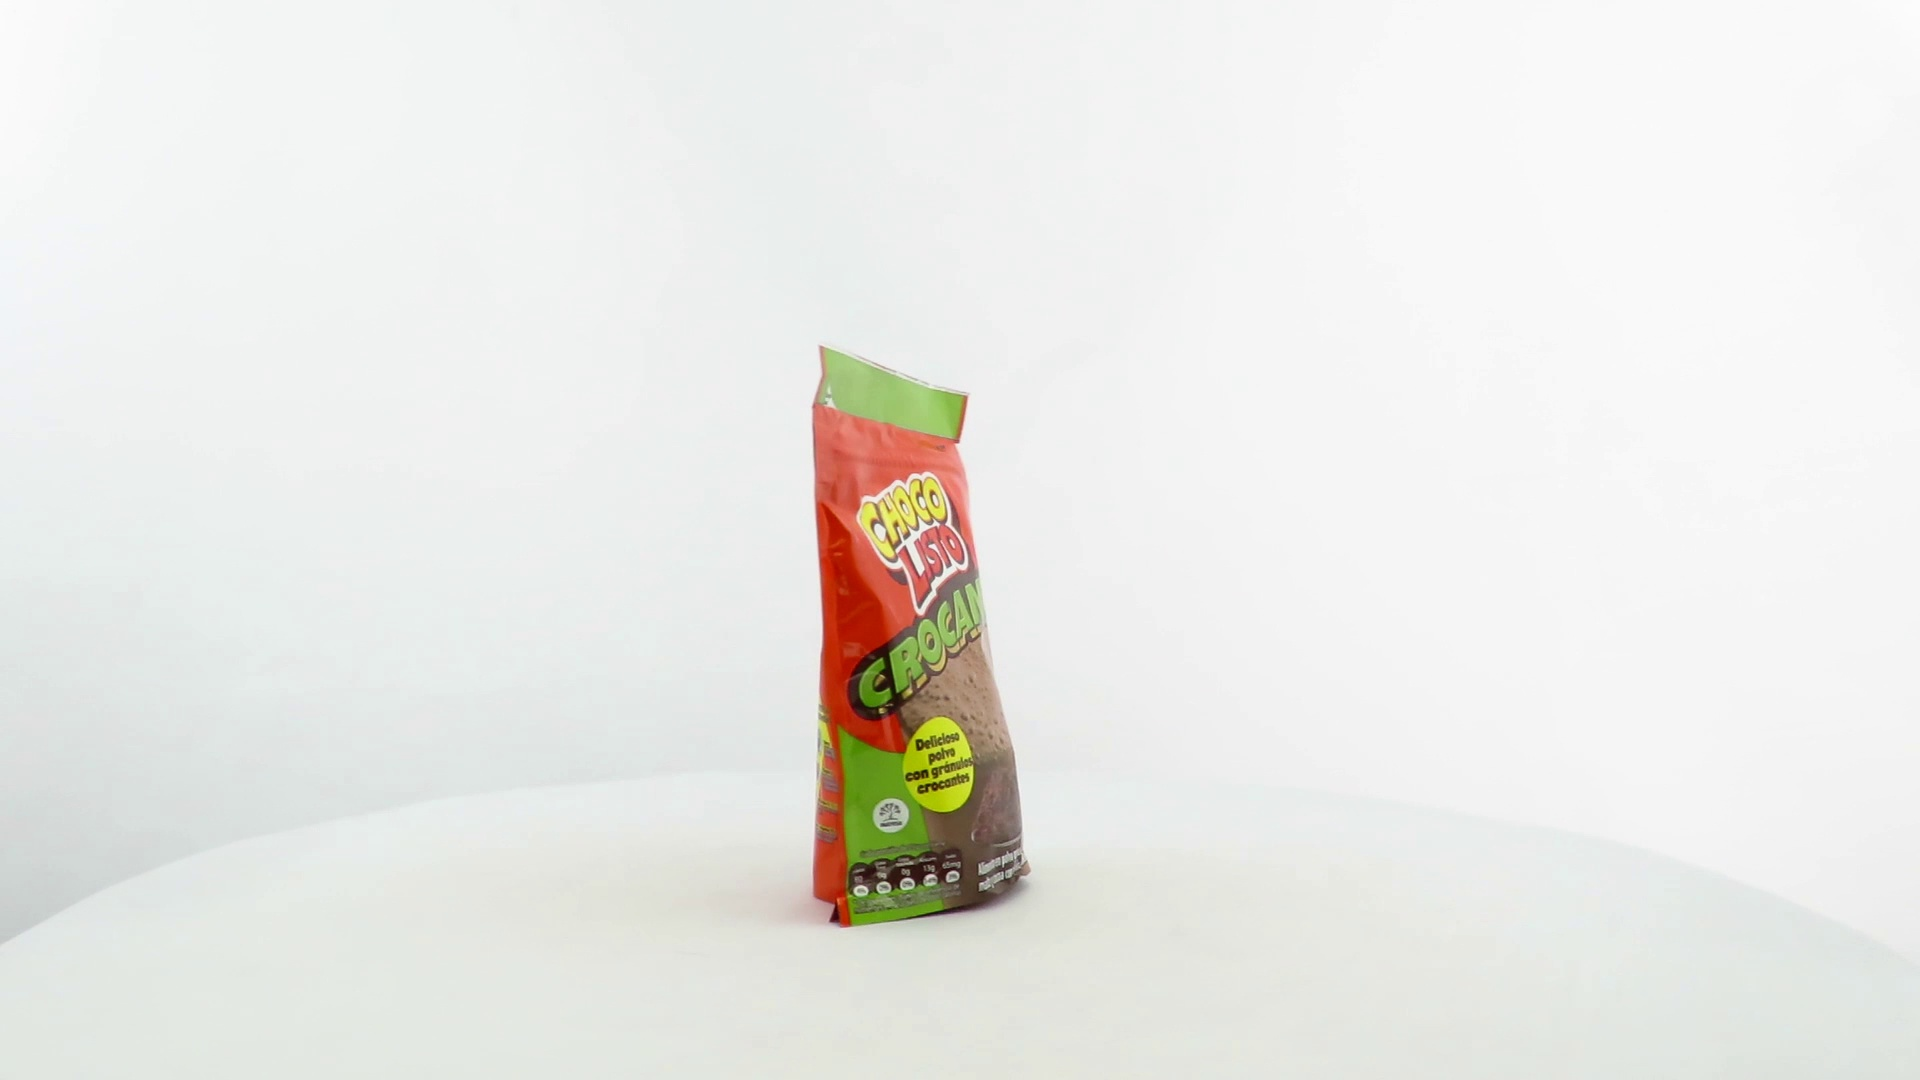COL0170102DYP10000: (807, 339, 1036, 934)
